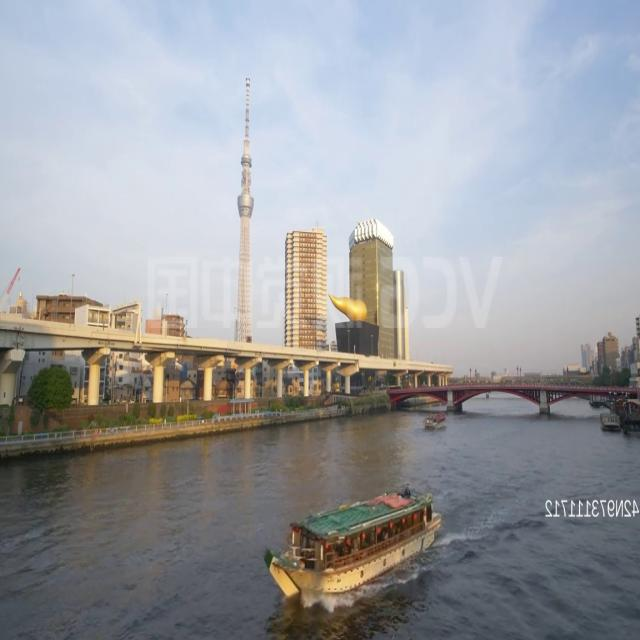passenger ship: (262, 481, 441, 607), (597, 404, 619, 434), (422, 410, 448, 435)
